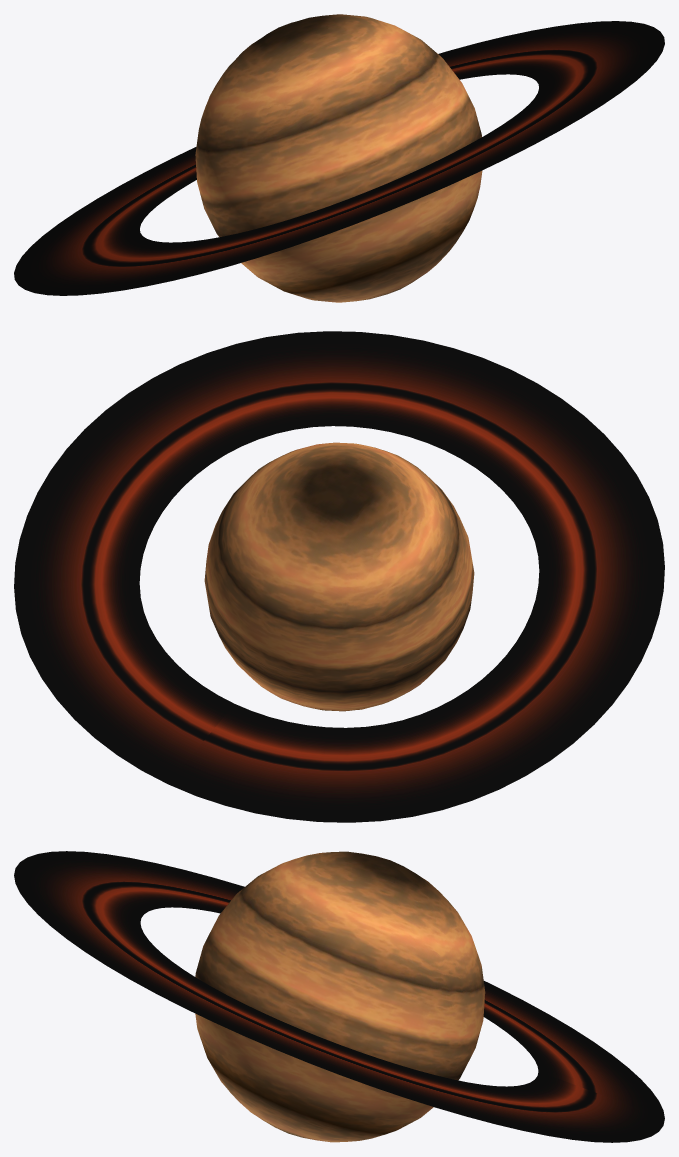
Rendered from ringedGasGiant.glb.
3 renders of one model, top to bottom at view 1: azimuth 30°, elevation 25°; view 2: azimuth 150°, elevation 25°; view 3: azimuth 270°, elevation 25°, orthographic. The views are drawn at different scales.
Visible parts, largest first — view 1: Cube_m_planet_0, Plane_m_ring_0; view 2: Plane_m_ring_0, Cube_m_planet_0; view 3: Cube_m_planet_0, Plane_m_ring_0.
Boxes of the visible parts, x1,y1,x2,y2 form: Cube_m_planet_0: (195,14,482,302); Plane_m_ring_0: (14,21,664,295); Plane_m_ring_0: (14,331,664,822); Cube_m_planet_0: (204,442,474,711); Cube_m_planet_0: (195,851,485,1142); Plane_m_ring_0: (14,851,664,1142).
Size of the model in its own units: 2.41 by 1.02 by 2.29.
2 materials, 2 textured.
